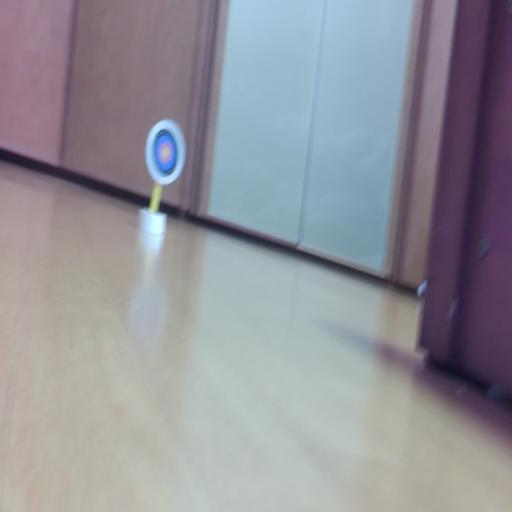target: (145, 119, 186, 186)
